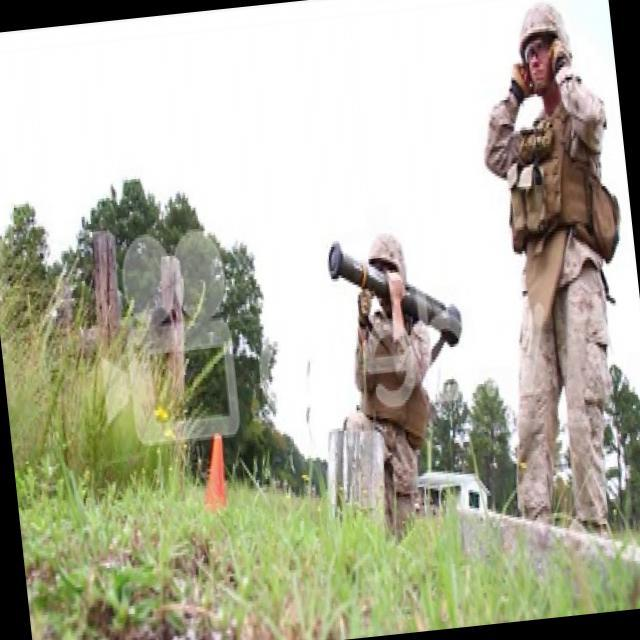rocket: (324, 224, 464, 365)
